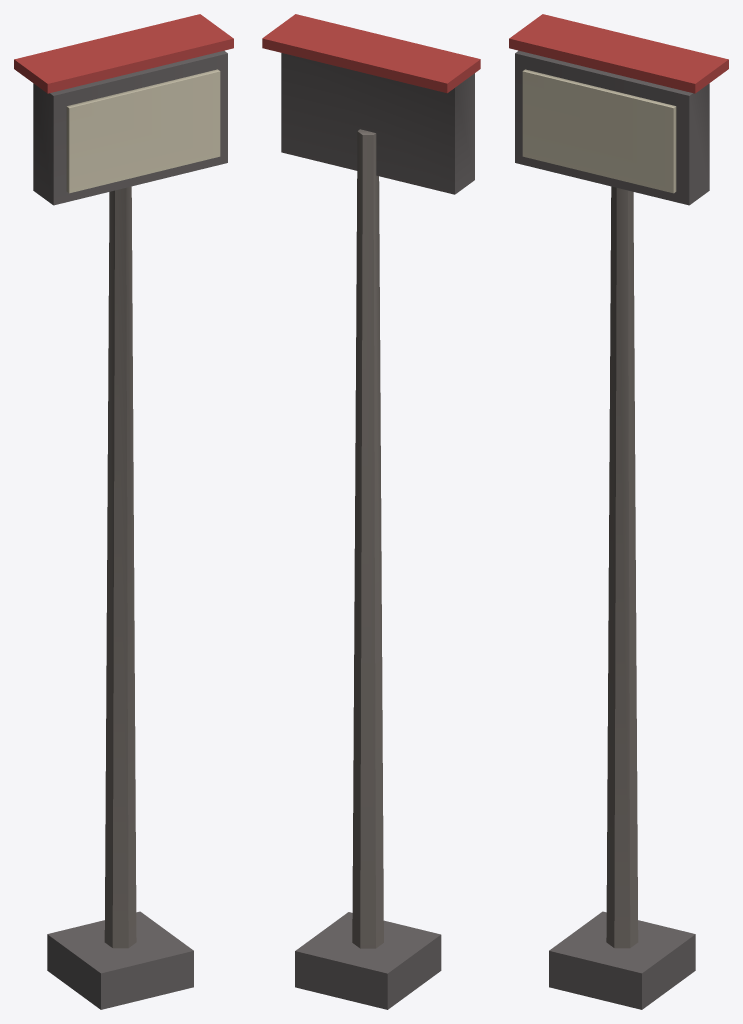
File: floodlight.glb
3 views of the same model, side by side, from view 1: azimuth 30°, elevation 25°; view 2: azimuth 150°, elevation 25°; view 3: azimuth 330°, elevation 25° (orthographic).
Visible parts, largest first — view 1: floodlight; view 2: floodlight; view 3: floodlight.
Part boxes in pixels (left/top/right/bottom): floodlight: left=14, top=14, right=233, bottom=1009; floodlight: left=262, top=14, right=480, bottom=1009; floodlight: left=509, top=14, right=728, bottom=1009.
Bounding box in the file's own units: 1.6 × 7.66 × 0.8.
